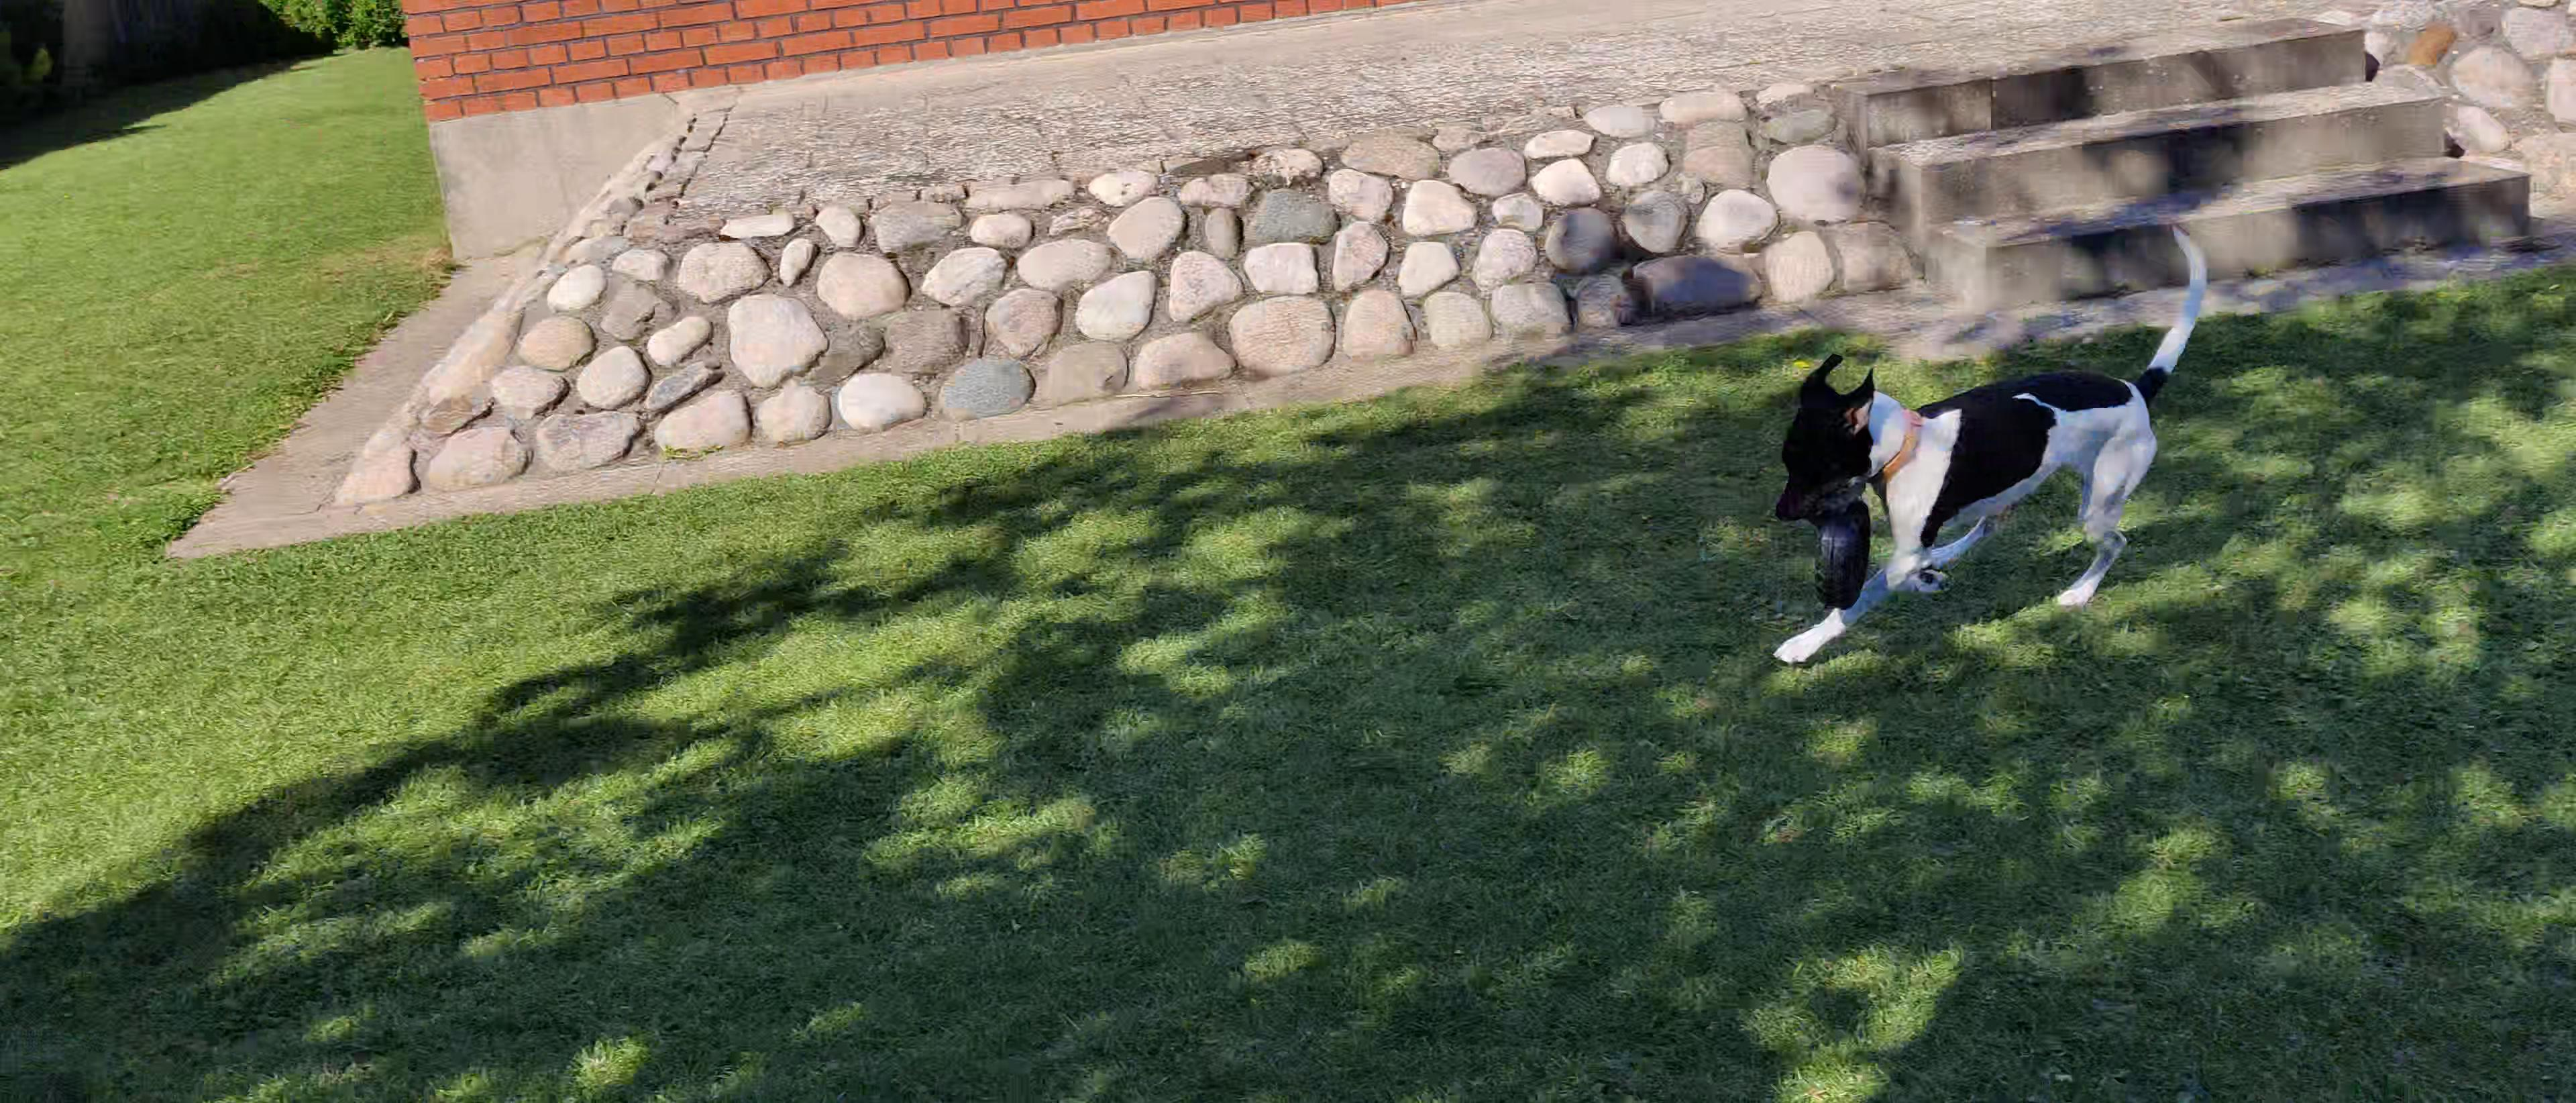Dog: (1769, 217, 2215, 666)
